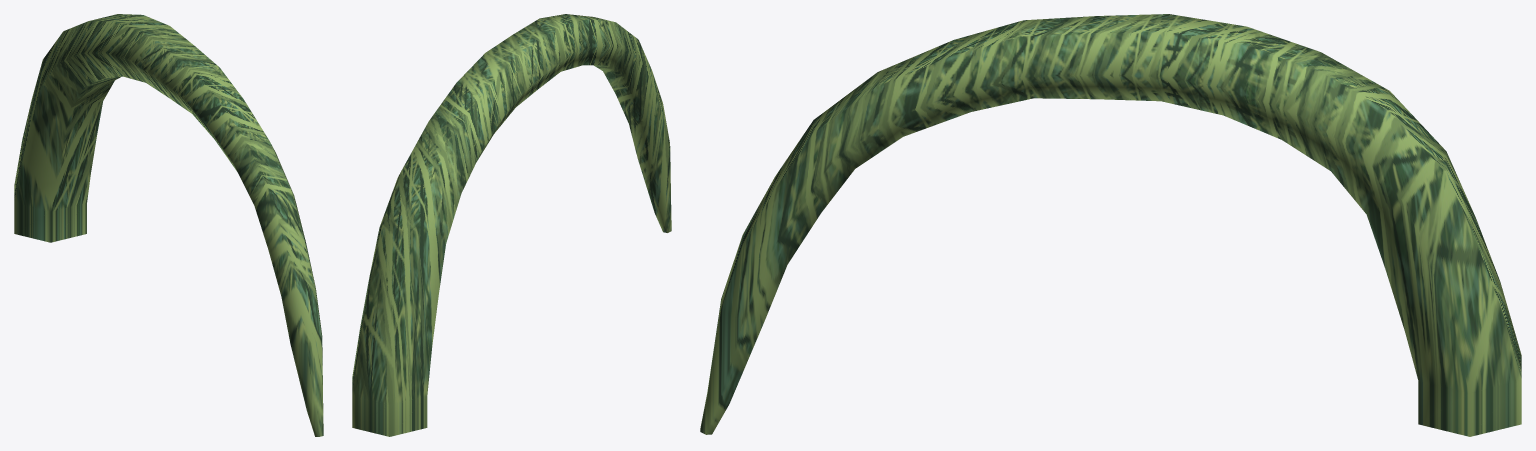
File: SM_Vine01.fbx
3 views of the same model, side by side, from view 1: azimuth 30°, elevation 25°; view 2: azimuth 150°, elevation 25°; view 3: azimuth 270°, elevation 25° (orthographic). The views are drawn at different scales.
Parts seen in each view (by area): view 1: SM_Vine01; view 2: SM_Vine01; view 3: SM_Vine01.
Boxes of the visible parts, x1,y1,x2,y2 form: SM_Vine01: (14, 14, 323, 436); SM_Vine01: (352, 14, 671, 436); SM_Vine01: (700, 14, 1521, 436).
Bounding box in the file's own units: 17.54 × 121 × 66.47.
